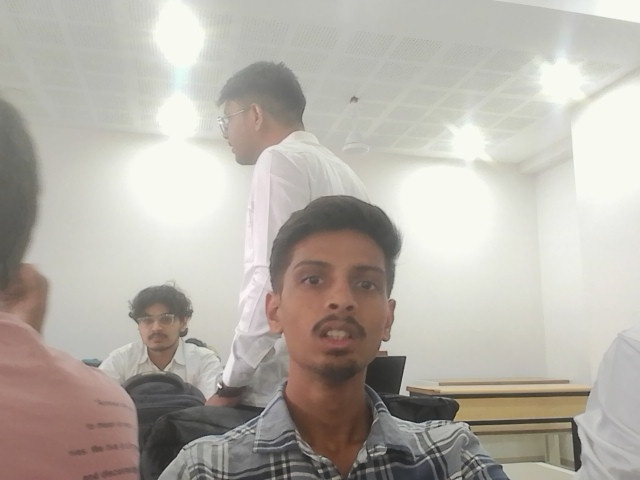fan_on: (339, 94, 369, 154)
light_on: (144, 22, 213, 179), (394, 125, 520, 179), (536, 67, 601, 110)
person: (157, 202, 514, 479), (0, 114, 160, 479), (218, 62, 386, 408), (102, 283, 222, 403), (582, 321, 639, 479)
